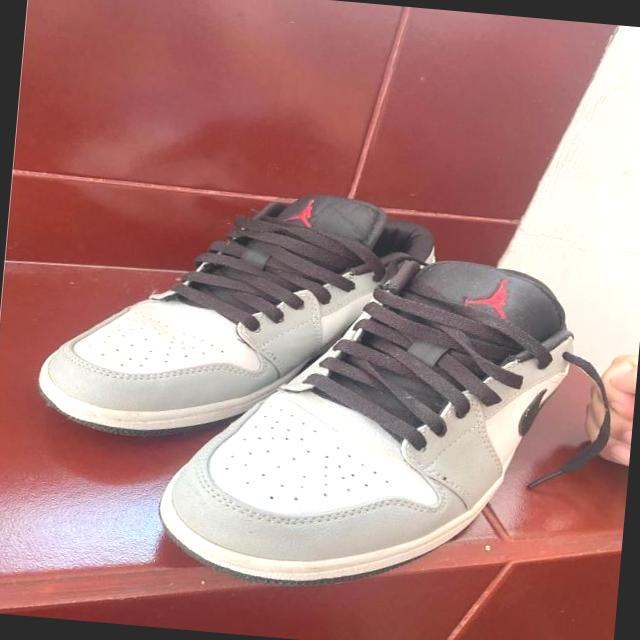nike_fake_jordan: (146, 232, 616, 610), (31, 172, 439, 464)
